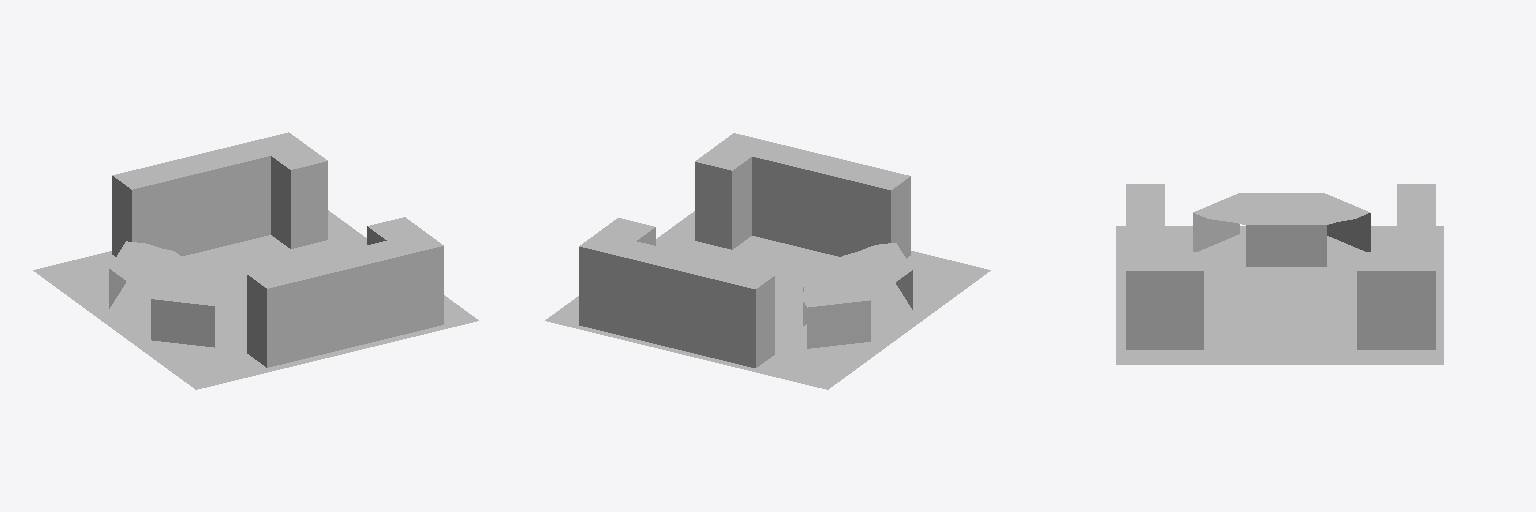
3 views of the same model, side by side, from view 1: azimuth 30°, elevation 25°; view 2: azimuth 150°, elevation 25°; view 3: azimuth 270°, elevation 25° (orthographic).
Visible parts, largest first — view 1: cube.003, Floor_Plane, cube.001_cube.004; view 2: cube.003, Floor_Plane, cube.001_cube.004; view 3: Floor_Plane, cube.003, cube.001_cube.004.
Boxes of the visible parts, x1=… form: cube.003: x1=112, y1=132, x2=443, y2=367; Floor_Plane: x1=33, y1=210, x2=478, y2=389; cube.001_cube.004: x1=109, y1=241, x2=220, y2=347; cube.003: x1=579, y1=133, x2=910, y2=367; Floor_Plane: x1=545, y1=211, x2=990, y2=389; cube.001_cube.004: x1=802, y1=243, x2=912, y2=348; Floor_Plane: x1=1116, y1=226, x2=1443, y2=364; cube.003: x1=1126, y1=184, x2=1435, y2=349; cube.001_cube.004: x1=1193, y1=193, x2=1370, y2=266.
Size of the model in its own units: 15 by 4 by 15.